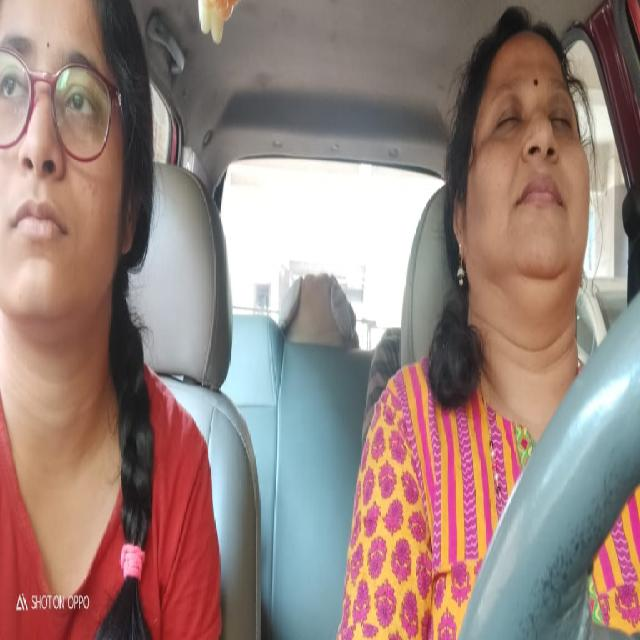drowsy: (452, 2, 598, 341)
person: (0, 0, 160, 349)
